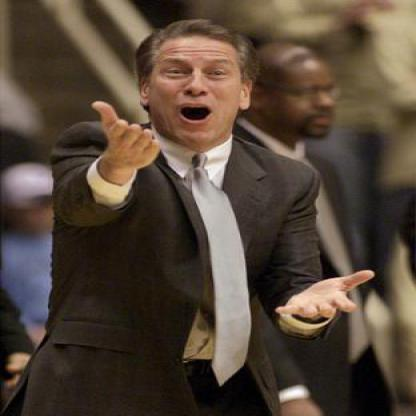face: (148, 25, 246, 151), (266, 47, 350, 142)
